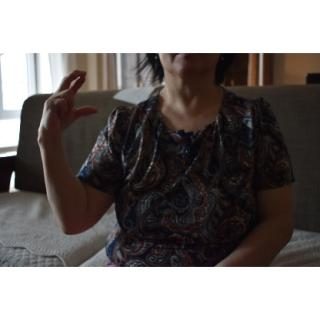DHELL: (33, 64, 108, 148)
